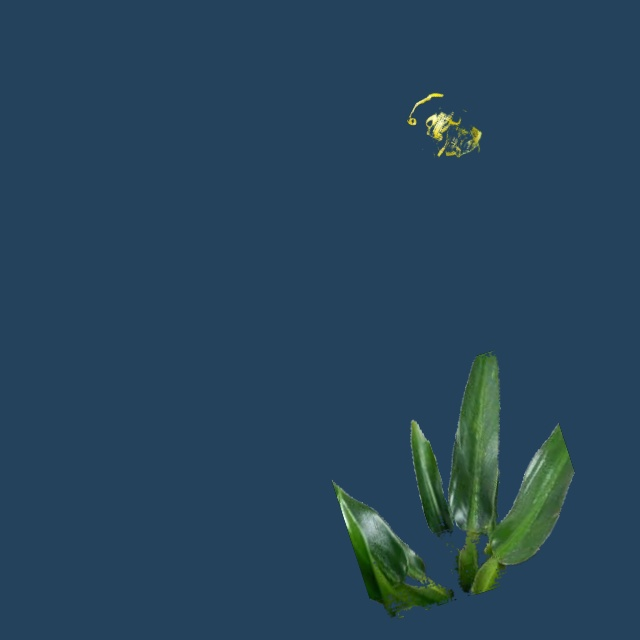jasmine: (332, 351, 574, 618)
ylang-ylang: (407, 93, 481, 157)
